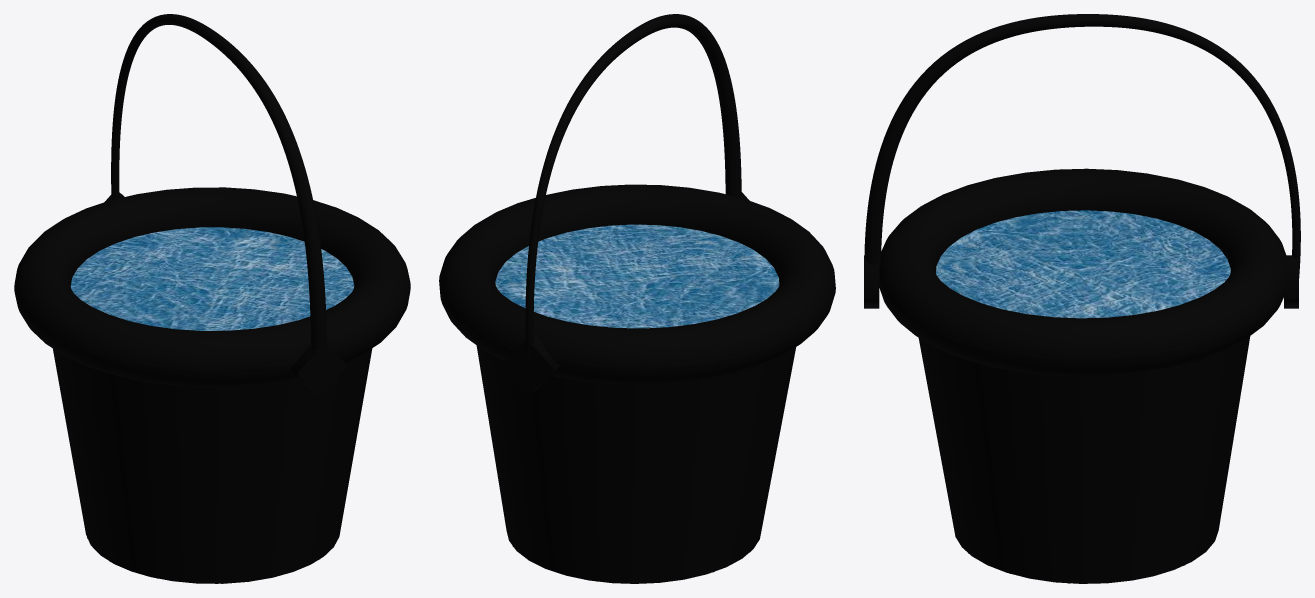
File: water.fbx
The picture shows the model from 3 angles, left to right: view 1: azimuth 30°, elevation 25°; view 2: azimuth 150°, elevation 25°; view 3: azimuth 270°, elevation 25°; orthographic projection. The views are drawn at different scales.
Parts seen in each view (by area): view 1: water; view 2: water; view 3: water.
Part boxes in pixels (bbox=[...]): water: bbox=[14, 14, 410, 583]; water: bbox=[439, 14, 835, 583]; water: bbox=[864, 14, 1300, 583].
Bounding box in the file's own units: 34.68 × 47.78 × 36.72.
2 materials, 1 textured.
